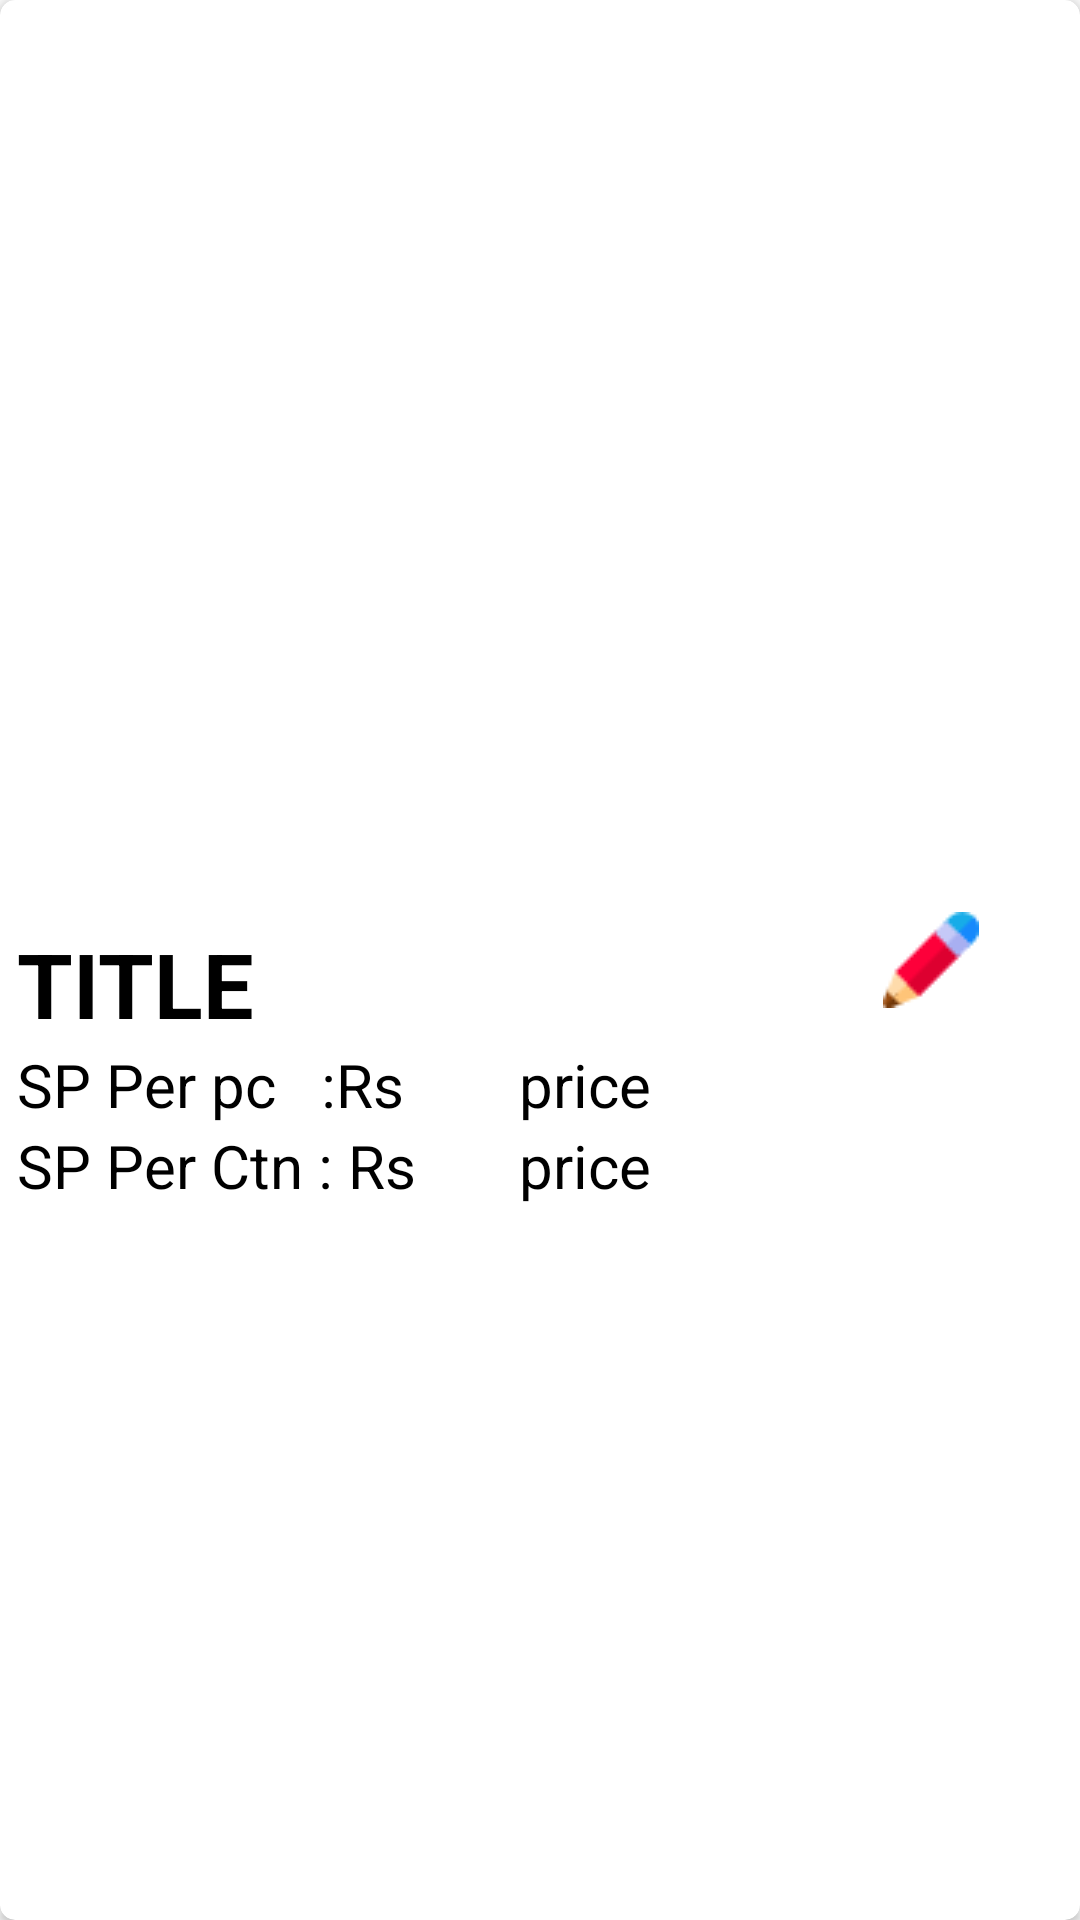

Named icons in this screenshot (1080×1920) and their centers, (x=x, y=y):
pencil: (x=931, y=960)
